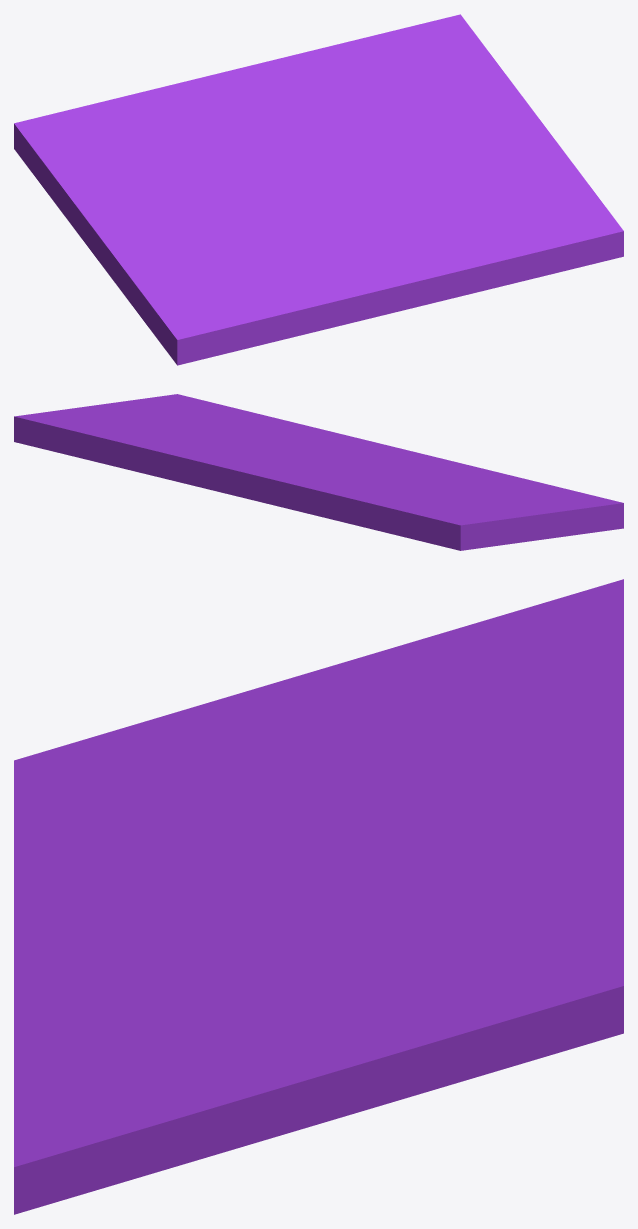
The model's file is Window_152_chunks.fbx.
3 renders of one model, top to bottom at view 1: azimuth 30°, elevation 25°; view 2: azimuth 150°, elevation 25°; view 3: azimuth 270°, elevation 25°, orthographic. The views are drawn at different scales.
Visible parts, largest first — view 1: Window_152_0, Window_152_3, Window_152_1, Window_152_2; view 2: Window_152_1, Window_152_3, Window_152_0, Window_152_2; view 3: Window_152_3, Window_152_0, Window_152_1, Window_152_2.
Boxes of the visible parts, x1,y1,x2,y2 form: Window_152_0: (69,177,437,365); Window_152_3: (310,14,596,202); Window_152_1: (14,46,330,222); Window_152_2: (359,195,623,306); Window_152_1: (126,448,516,550); Window_152_3: (14,398,324,469); Window_152_0: (324,439,623,542); Window_152_2: (150,394,362,452); Window_152_3: (116,865,623,1140); Window_152_0: (14,641,416,997); Window_152_1: (323,579,623,867); Window_152_2: (14,914,262,1214).
Bounding box in the file's own units: 1838 × 482 × 1165.
